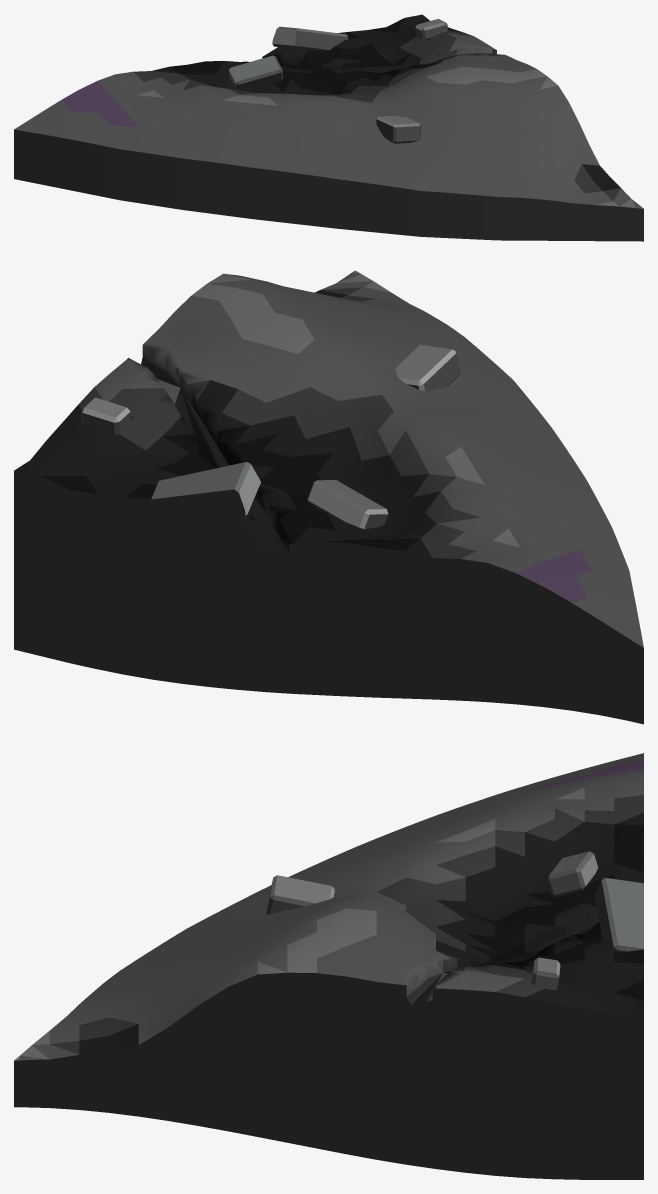
Rendered from camanis_boss_164.glb.
3 renders of one model, top to bottom at view 1: azimuth 30°, elevation 25°; view 2: azimuth 150°, elevation 25°; view 3: azimuth 270°, elevation 25°, orthographic. The views are drawn at different scales.
Visible parts, largest first — view 1: camanis_boss_164; view 2: camanis_boss_164; view 3: camanis_boss_164.
Part boxes in pixels (x1,y1,x2,y2): camanis_boss_164: (14,14,643,241); camanis_boss_164: (14,270,643,724); camanis_boss_164: (14,753,643,1179).
Bounding box in the file's own units: 22.58 × 7.8 × 21.2.
